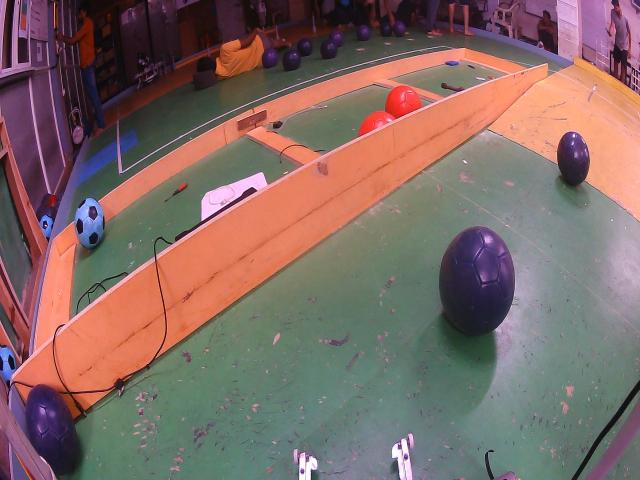kaalyya: (440, 227, 515, 335), (25, 385, 78, 475), (558, 132, 590, 185)
